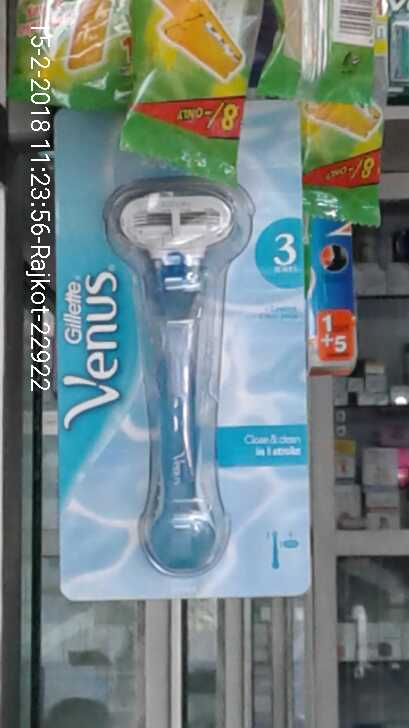venus: (51, 106, 316, 592)
